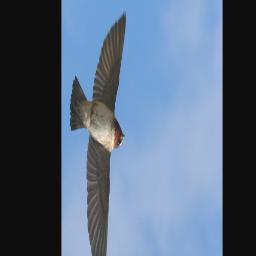Swallow: (69, 12, 127, 256)
